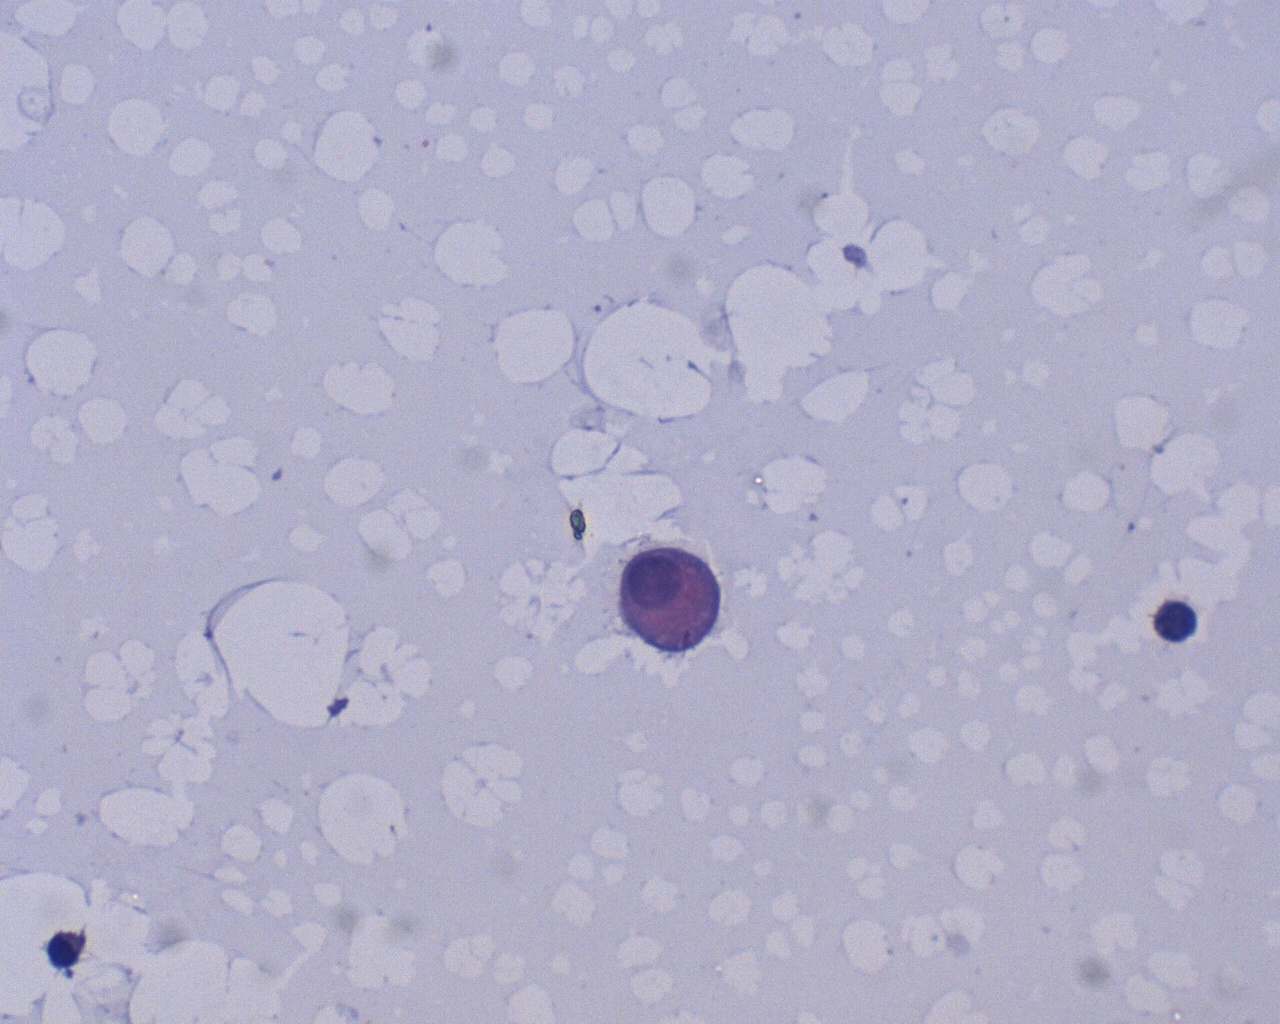lymph: (1149, 596, 1204, 649)
meso: (616, 541, 727, 656)
